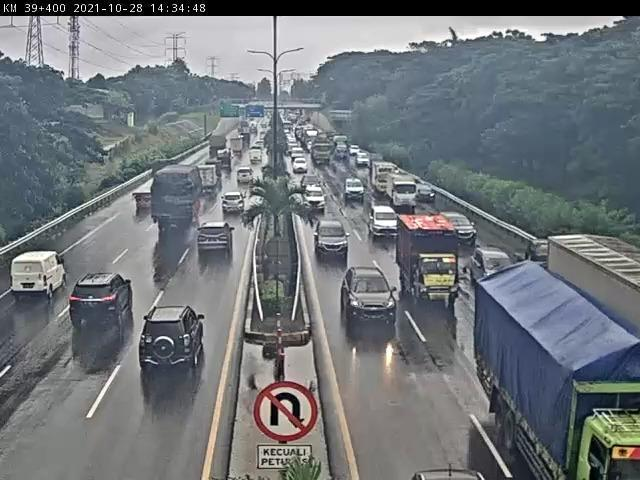car: (138, 302, 209, 377), (66, 271, 136, 336), (10, 251, 66, 312), (341, 269, 394, 322), (313, 218, 353, 261), (196, 220, 235, 264), (361, 199, 395, 236), (411, 464, 486, 480), (464, 240, 499, 272), (494, 223, 532, 252), (438, 204, 468, 240), (219, 190, 247, 217), (304, 183, 330, 212), (232, 169, 258, 194), (341, 177, 366, 203), (414, 184, 437, 207), (290, 156, 312, 179)
truck: (475, 260, 640, 480), (548, 236, 640, 334), (401, 218, 461, 301), (154, 163, 205, 232), (134, 157, 178, 210), (387, 173, 424, 214), (368, 158, 402, 190), (196, 163, 222, 192)
